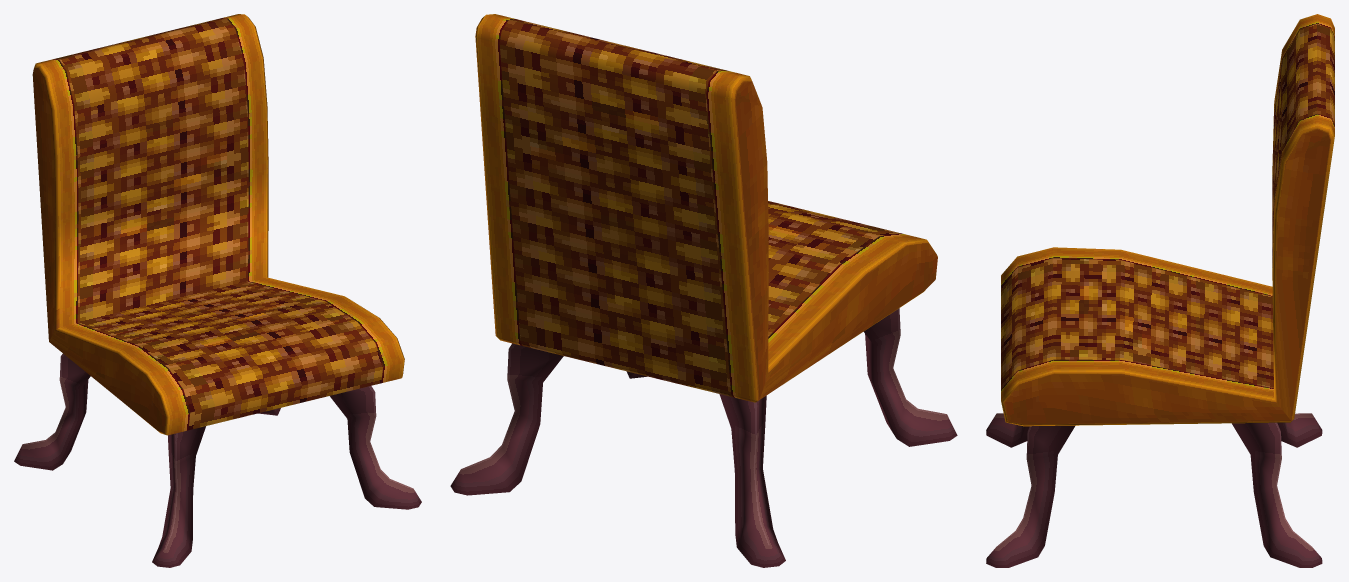
File: rmk_rst_chairS02.dae
3 views of the same model, side by side, from view 1: azimuth 30°, elevation 25°; view 2: azimuth 150°, elevation 25°; view 3: azimuth 270°, elevation 25° (orthographic). The views are drawn at different scales.
Parts seen in each view (by area): view 1: rmk_rst_chairS02; view 2: rmk_rst_chairS02; view 3: rmk_rst_chairS02.
Part boxes in pixels (x1,y1,x2,y2): rmk_rst_chairS02: (14,14,421,567); rmk_rst_chairS02: (450,14,957,567); rmk_rst_chairS02: (986,14,1334,567).
Bounding box in the file's own units: 26.03 × 36.54 × 26.99.
1 material, 1 textured.
